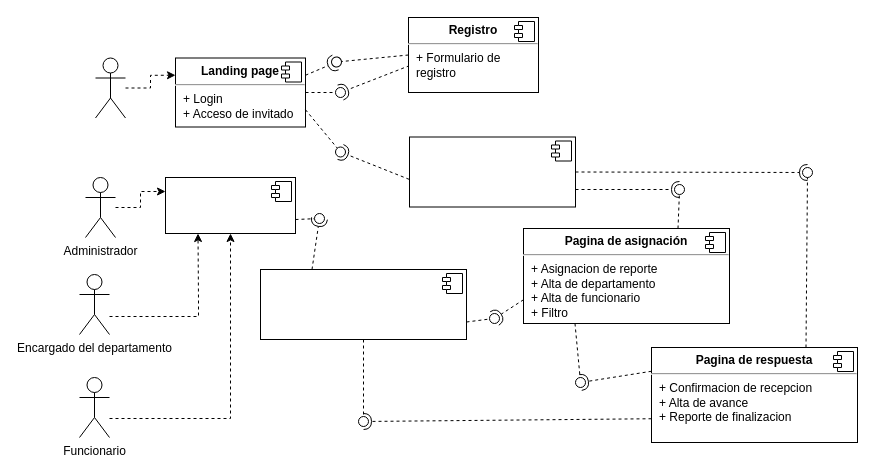
This 875x476 diagram has some shape labels left out. The centre of each missing label's shape, as x and y in pixels:
"Landing page + Login" belongs at point 230,205.
"Pagina de administración + Reportes + Filtro" belongs at point 363,304.
"Pagina de opciones + Crear de denuncia + Ver denuncia" belongs at point 492,171.
"Usuario" belongs at point 110,87.
